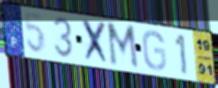1: (174, 33, 189, 76)
3: (50, 16, 75, 60)
5: (23, 10, 48, 56)
G: (141, 29, 168, 73)
M: (105, 21, 141, 72)
X: (81, 18, 111, 68)
